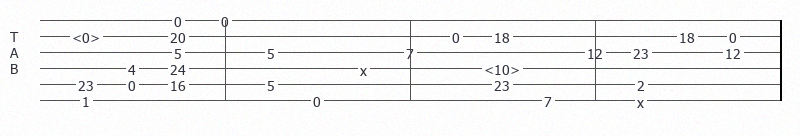0: (128, 77, 140, 91), (174, 13, 186, 27), (221, 13, 233, 27), (313, 93, 325, 107), (452, 29, 464, 43), (729, 29, 741, 43)
1: (82, 93, 94, 107)
12: (587, 45, 607, 59), (725, 45, 745, 59)
16: (170, 77, 190, 91)
18: (494, 29, 514, 43), (679, 29, 699, 43)
2: (637, 77, 649, 91)
20: (170, 29, 190, 43)
23: (78, 77, 98, 91), (494, 77, 514, 91), (633, 45, 653, 59)
24: (170, 61, 190, 75)
4: (128, 61, 140, 75)
5: (174, 45, 186, 59), (267, 45, 279, 59), (267, 77, 279, 91)
7: (406, 45, 418, 59), (544, 93, 556, 107)
harmonic: (484, 61, 524, 75), (72, 29, 104, 43)
x: (360, 62, 371, 74), (637, 94, 648, 106)
